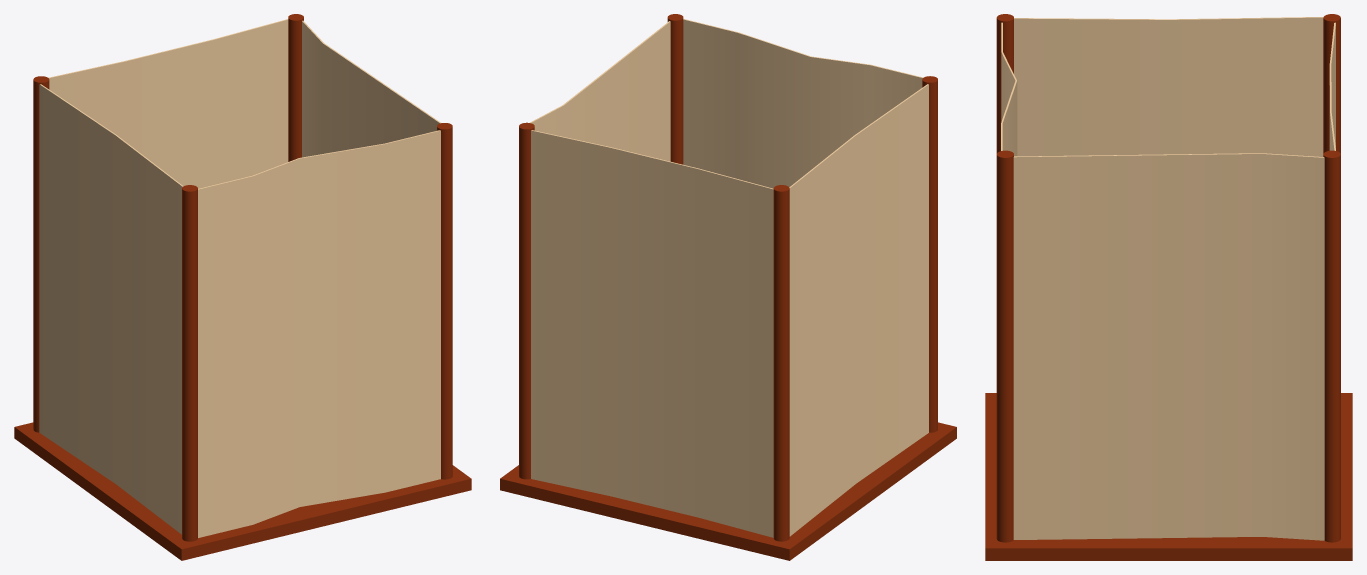
Rendered from Water_Candle.fbx.
3 renders of one model, left to right at view 1: azimuth 30°, elevation 25°; view 2: azimuth 150°, elevation 25°; view 3: azimuth 270°, elevation 25°, orthographic. The views are drawn at different scales.
Visible parts, largest first — view 1: Cube; view 2: Cube; view 3: Cube.
Part boxes in pixels (<box>): Cube: <box>14,14,471,560</box>; Cube: <box>500,14,956,560</box>; Cube: <box>985,14,1352,560</box>.
Size of the model in its own units: 325 by 388 by 325.
